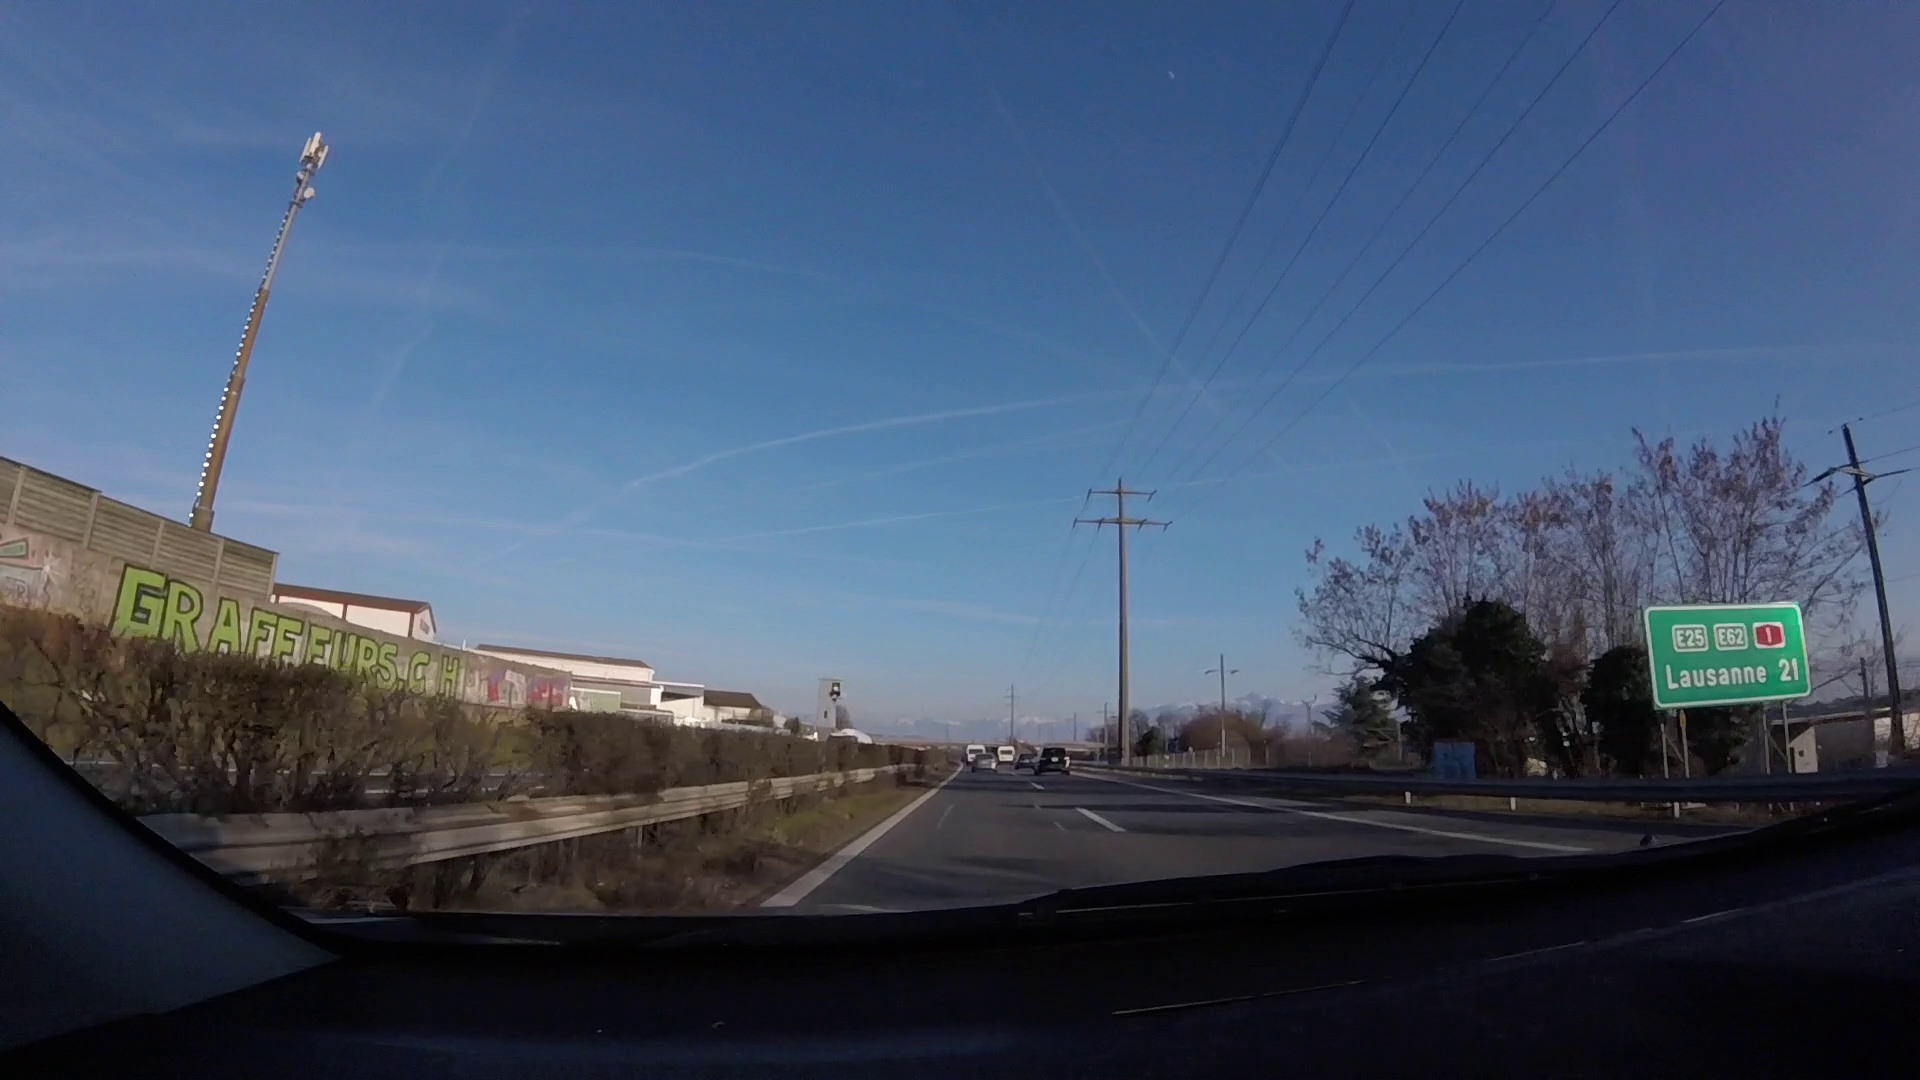radar: (812, 675, 848, 746)
